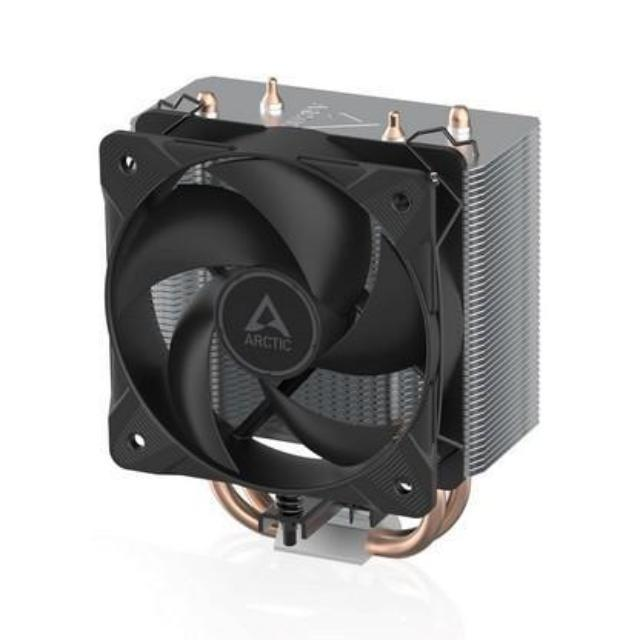CPU_Fan: (94, 74, 551, 568)
